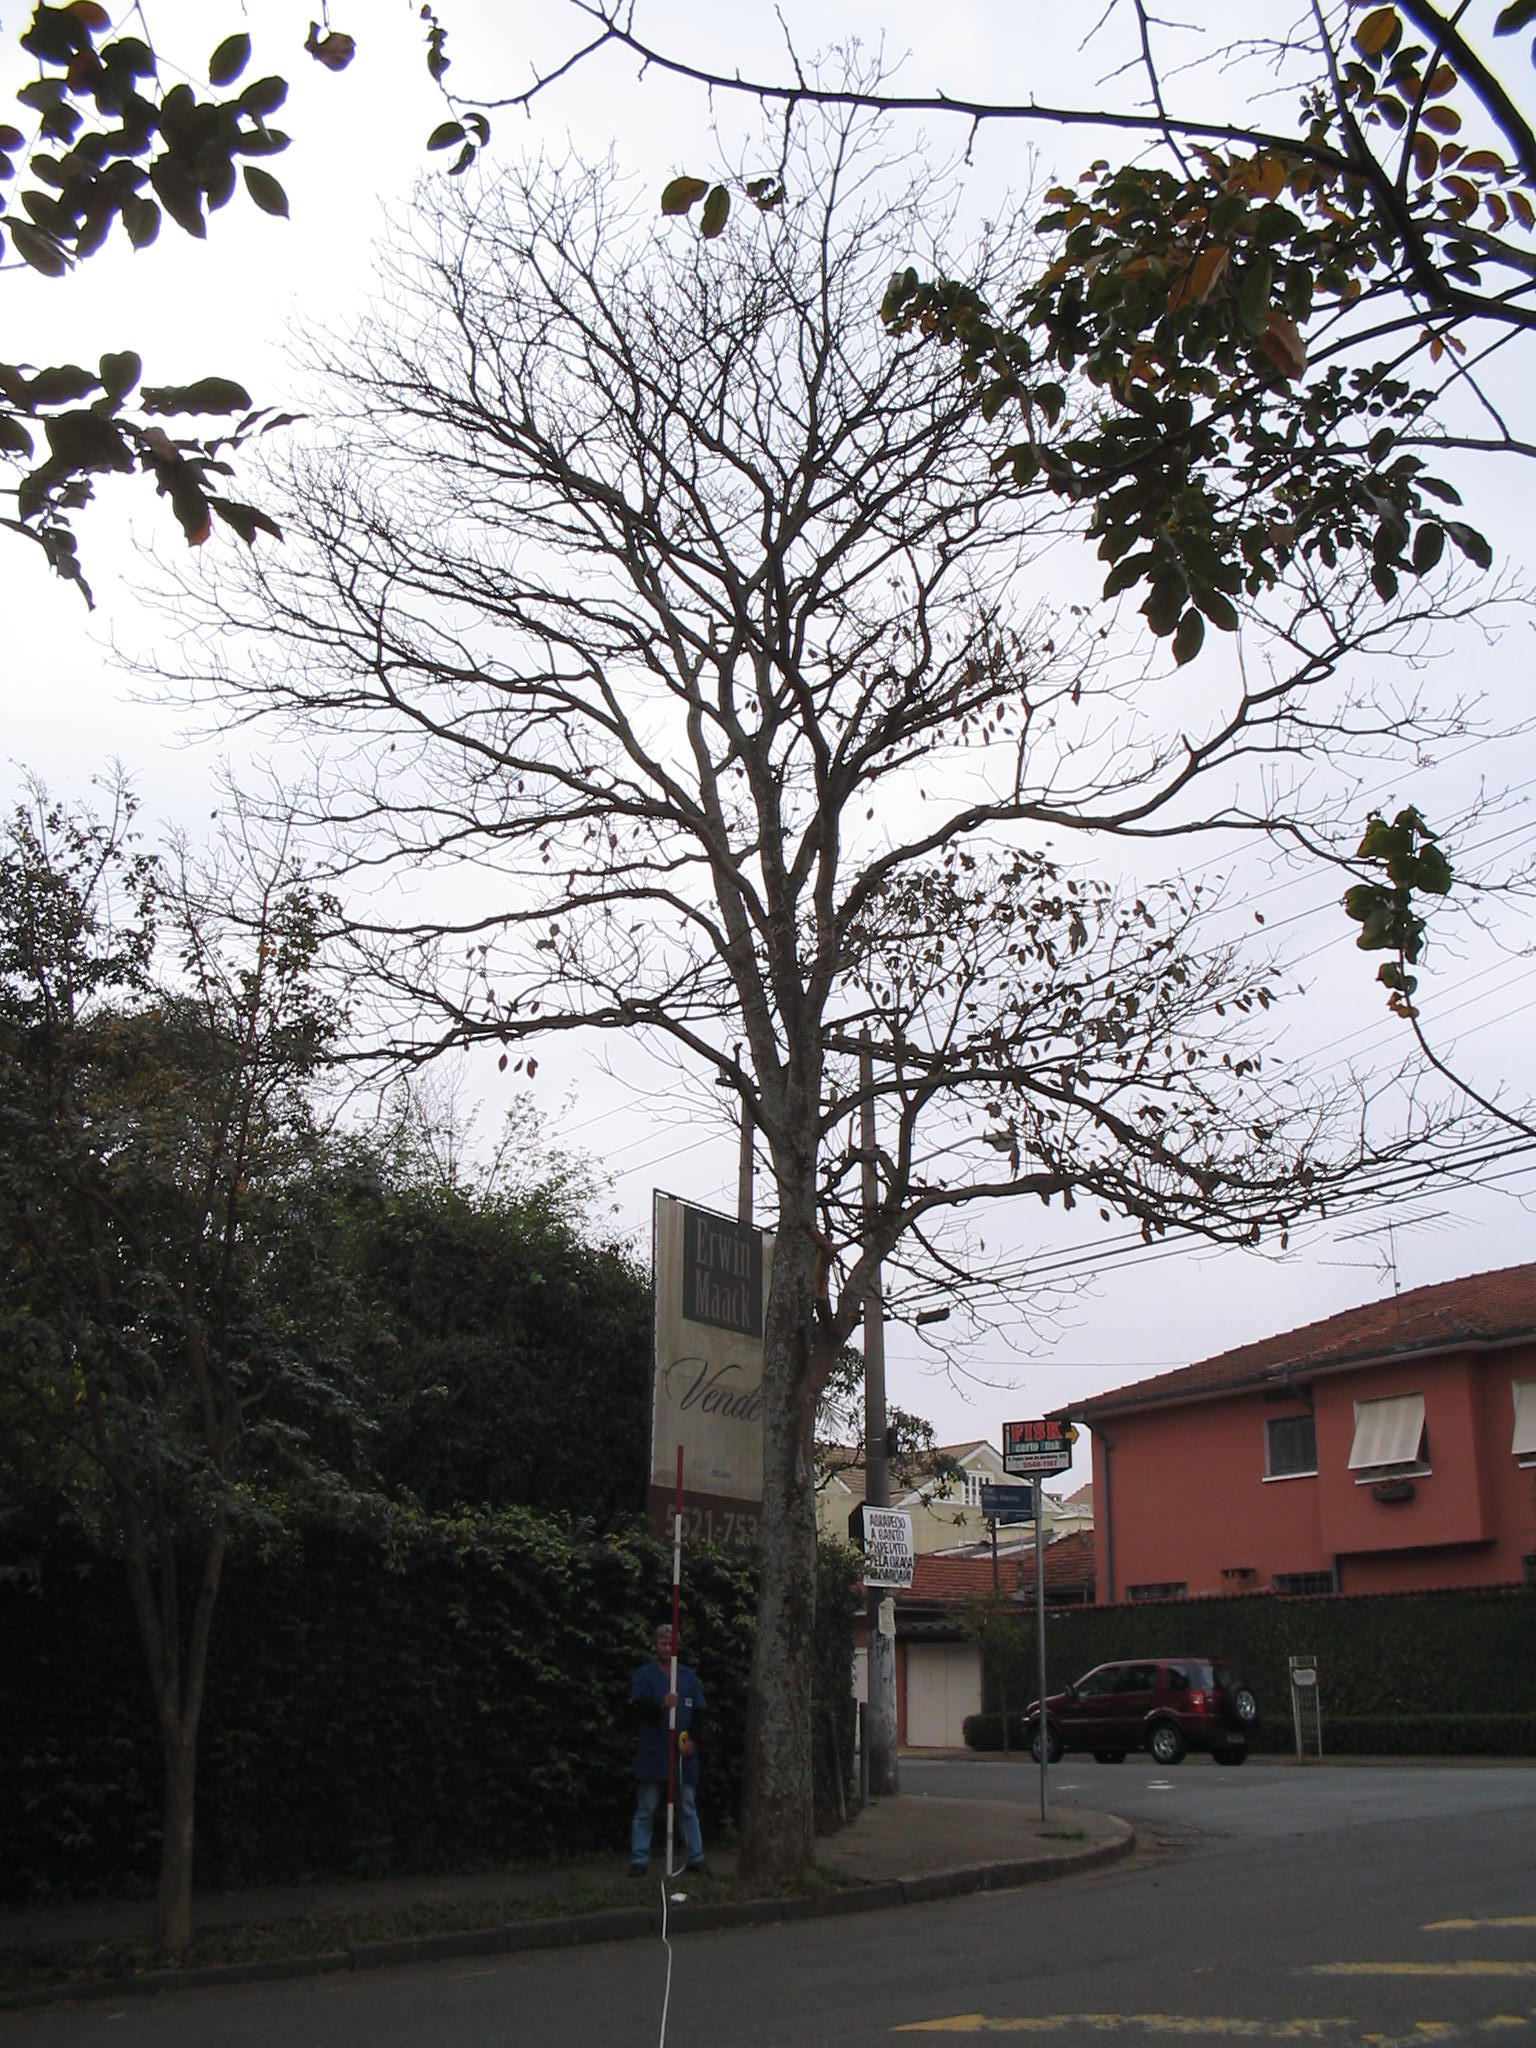stem: (700, 1342, 899, 1879), (111, 1724, 244, 1950)
stick: (628, 1447, 720, 1875)
tree: (102, 34, 1528, 1887), (2, 785, 591, 1958)
